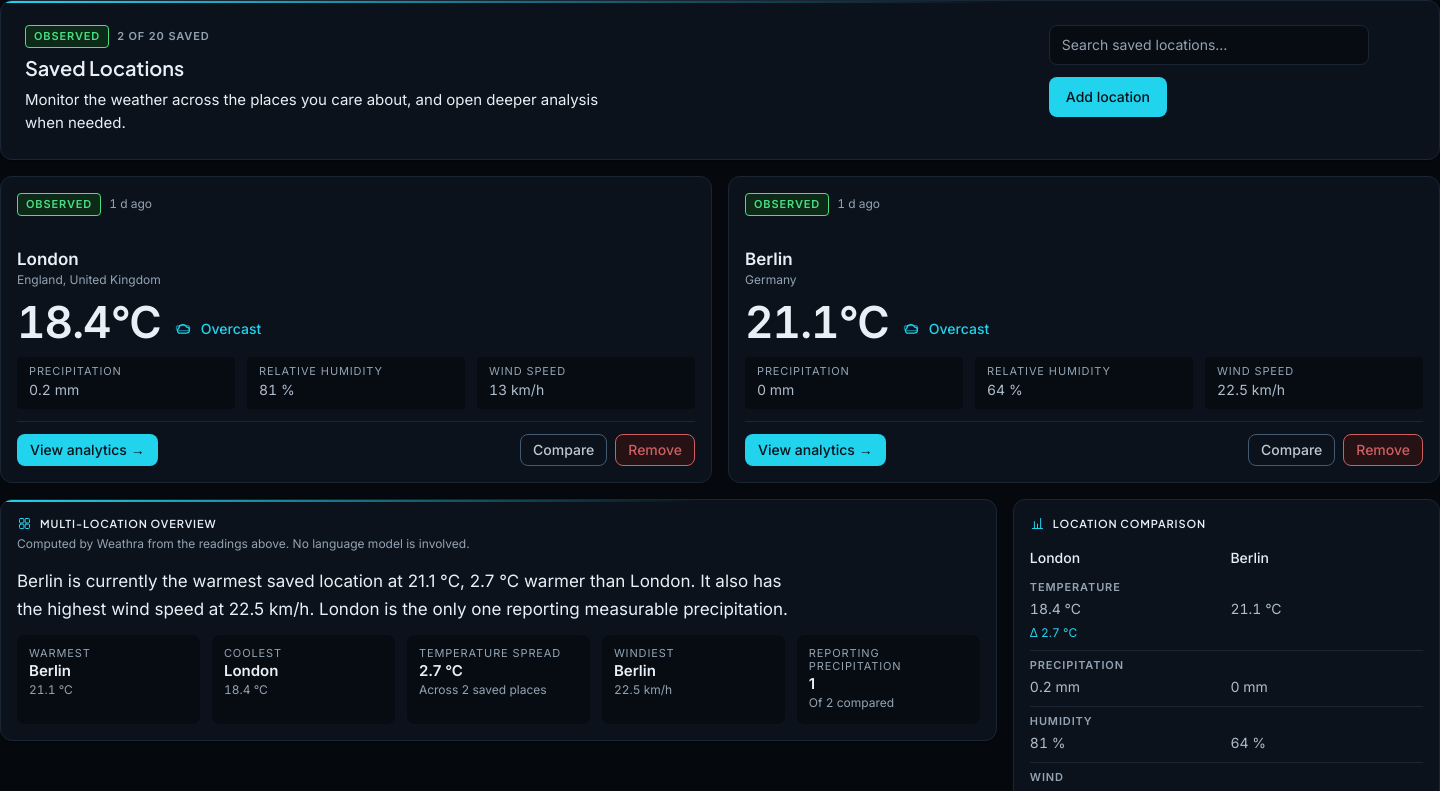
Test: removing a location asks first › asks before it removes anything, naming the place as the card does
Click the button with aria-label "Remove saved location: Berlin" at x=1383, y=450, box [1343,434,1423,466]
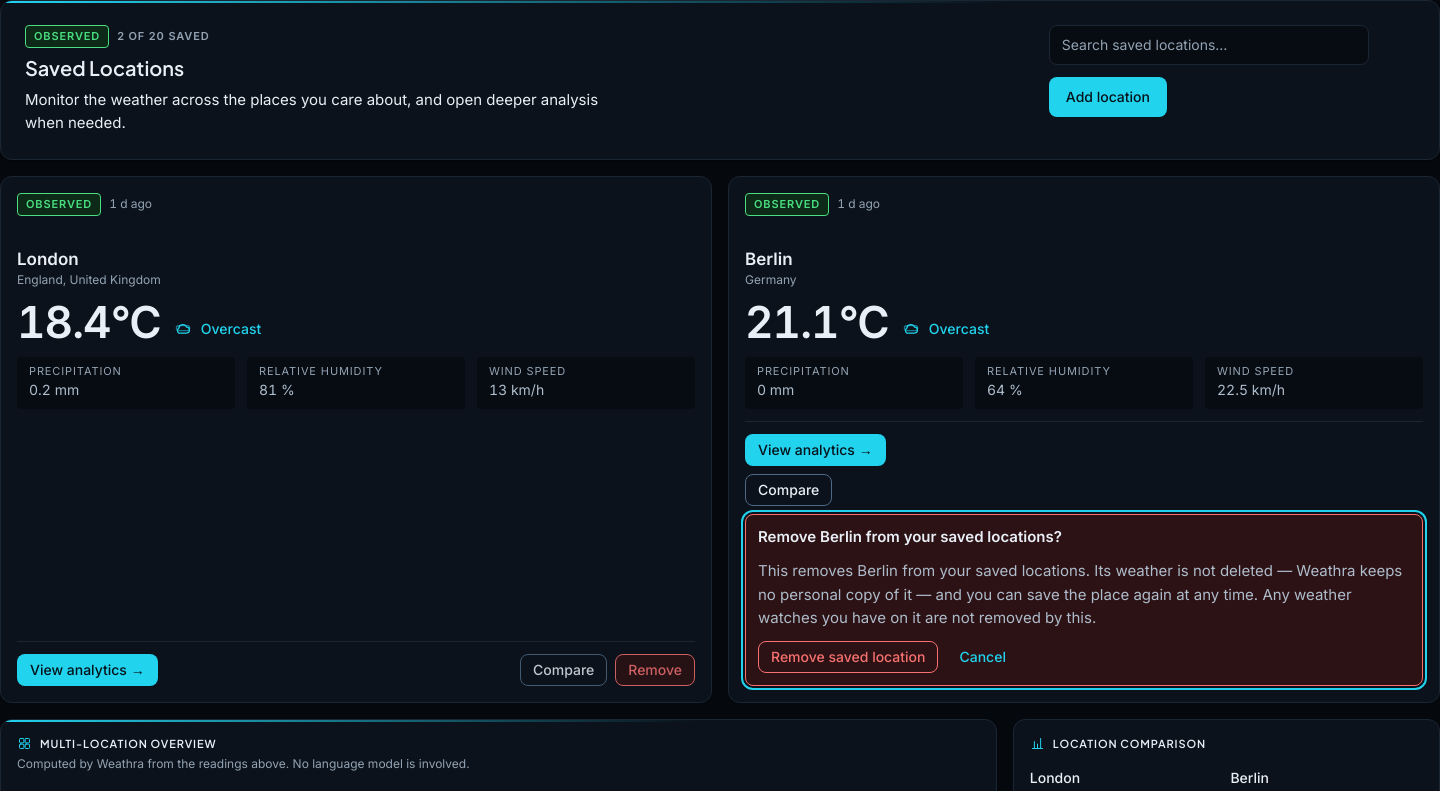
Result: the dialog "Remove Berlin from your saved locations?" shows "removes Berlin from your saved locations" at [745,514,1423,686]
